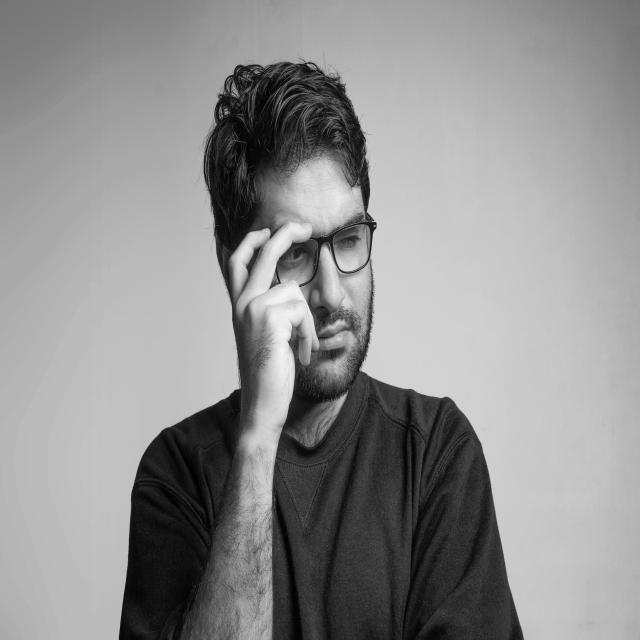adult: (117, 52, 524, 640)
